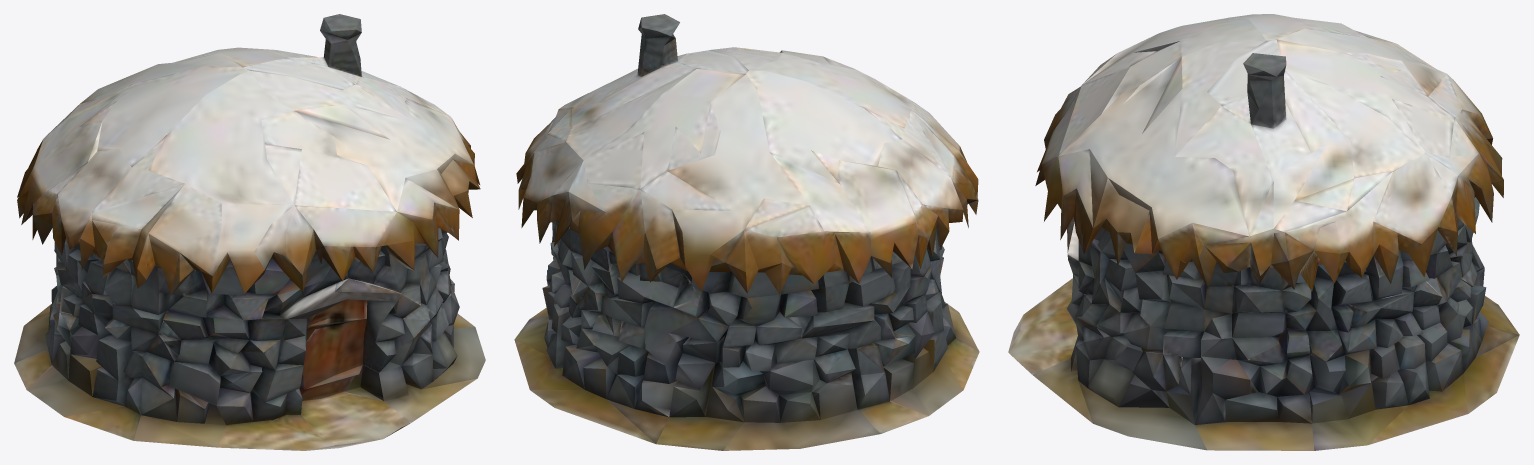
File: house7.glb
The picture shows the model from 3 angles, left to right: view 1: azimuth 30°, elevation 25°; view 2: azimuth 150°, elevation 25°; view 3: azimuth 270°, elevation 25°; orthographic projection. The views are drawn at different scales.
Size of the model in its own units: 1.87 by 1.37 by 1.9.
1 material, 1 textured.
